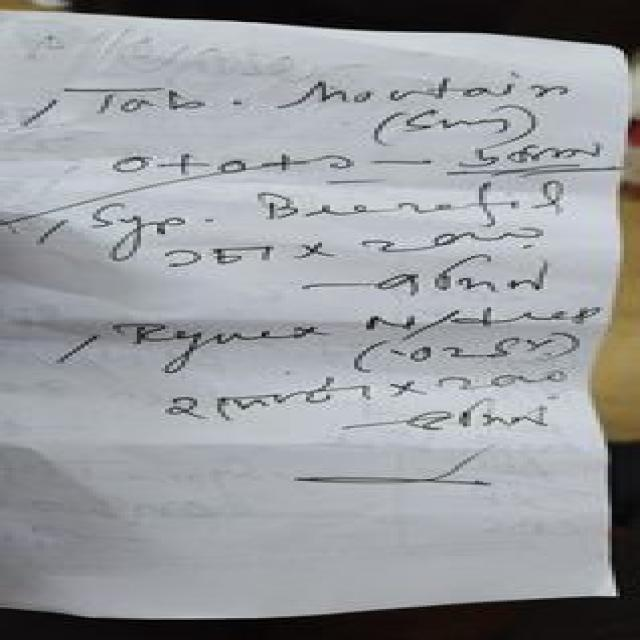Brezofil: (220, 181, 579, 232)
Montair: (249, 70, 585, 116)
Rynex: (104, 305, 342, 358)
